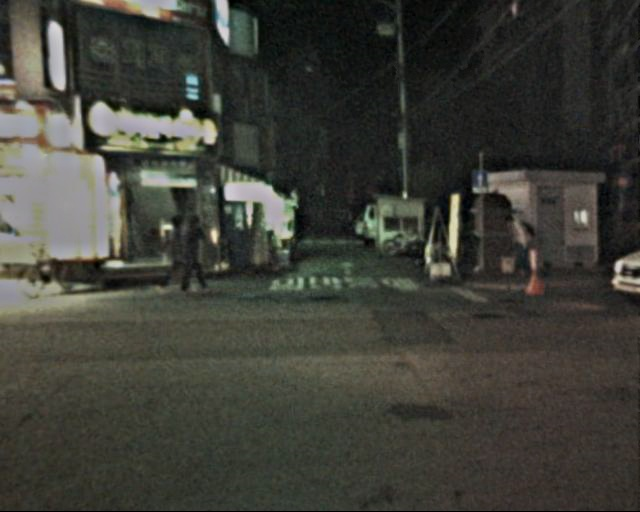person: (154, 212, 194, 296), (173, 211, 210, 297), (498, 212, 533, 288), (333, 206, 357, 240)
